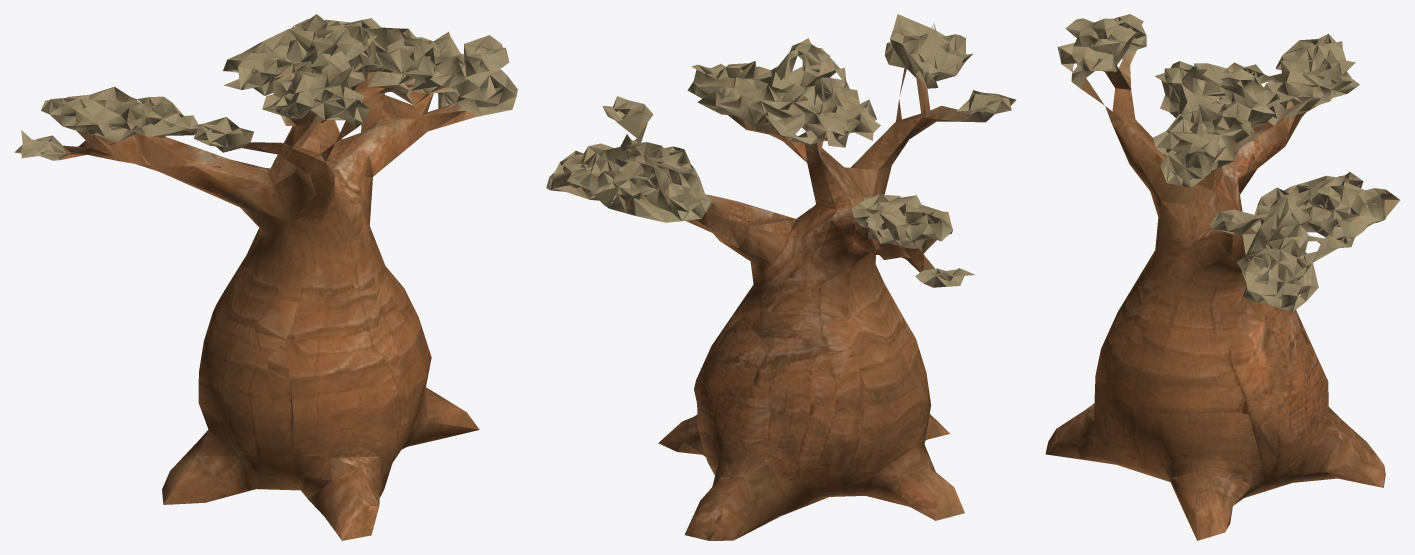
File: de_reservoir_tree.glb
3 renders of one model, left to right at view 1: azimuth 30°, elevation 25°; view 2: azimuth 150°, elevation 25°; view 3: azimuth 270°, elevation 25°, orthographic. The views are drawn at different scales.
Parts seen in each view (by area): view 1: mesh; view 2: mesh; view 3: mesh.
Boxes of the visible parts, x1=… form: mesh: x1=14, y1=14, x2=517, y2=540; mesh: x1=546, y1=14, x2=1016, y2=540; mesh: x1=1045, y1=14, x2=1400, y2=540.
Bounding box in the file's own units: 1.8 × 1.66 × 1.26.
1 material, 1 textured.
